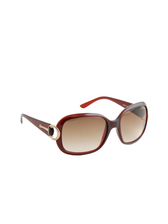glasses: (17, 92, 152, 160)
